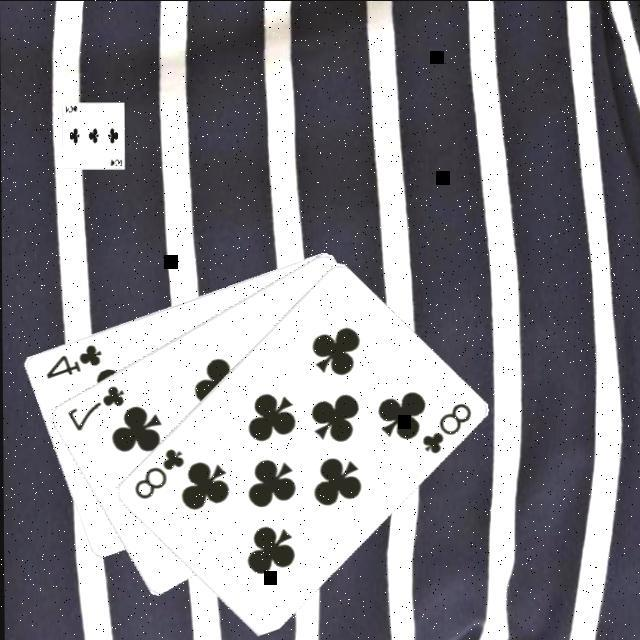4C: (40, 339, 102, 379)
7C: (62, 380, 126, 433)
8C: (129, 443, 185, 501), (416, 397, 472, 455)
